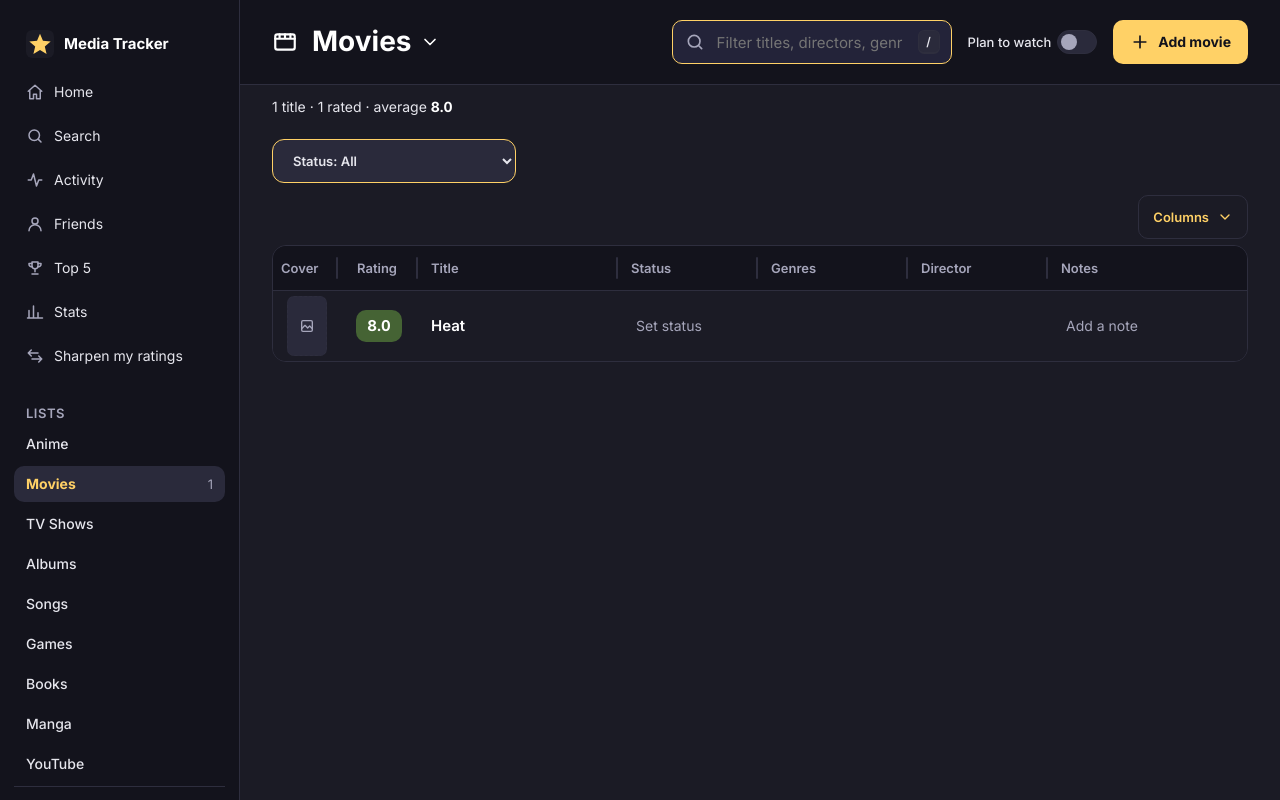
Test: Columns menu (PC table) › Escape closes the menu and returns focus to its button; Airing is only offered on anime and TV
The image size is (1280, 800).
Expected: the table is shown, [273,246,1248,361]
Click the button "Columns" at (1193,217), box [1138,195,1248,239]
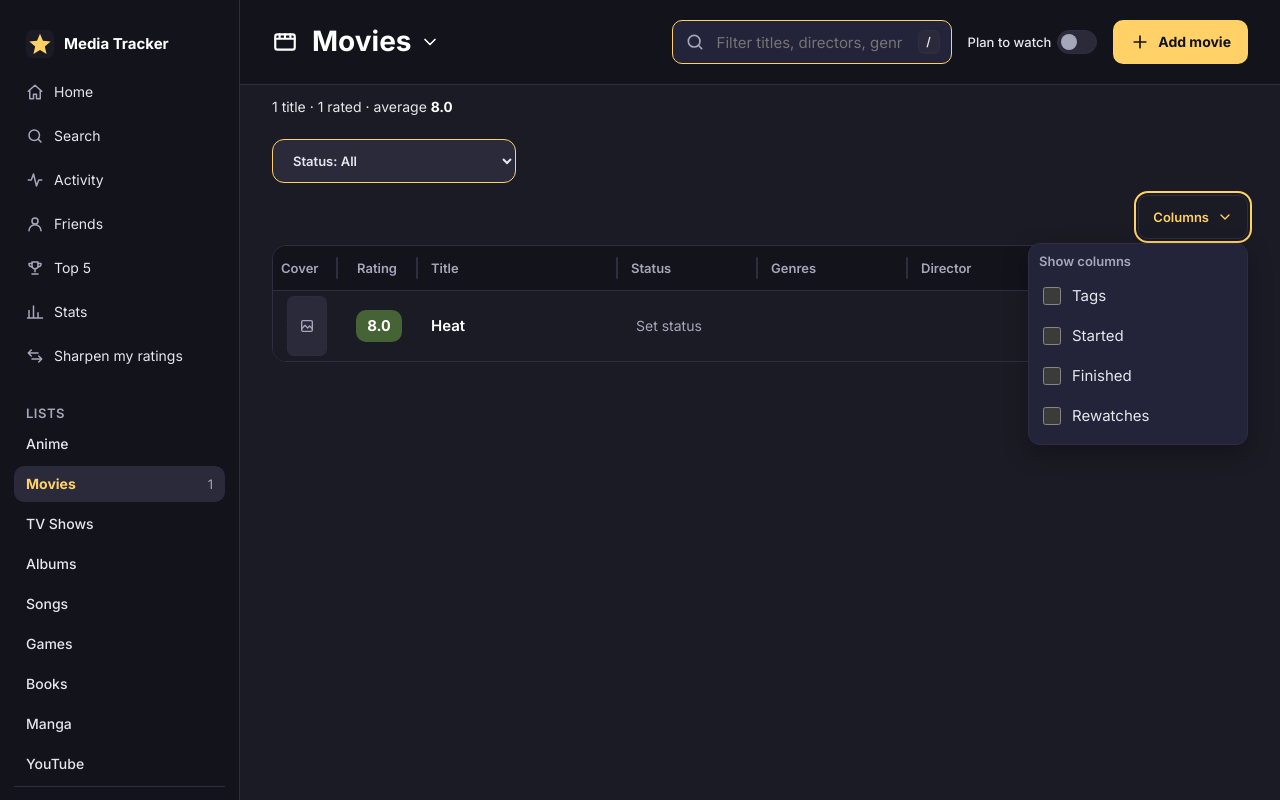
Press Escape
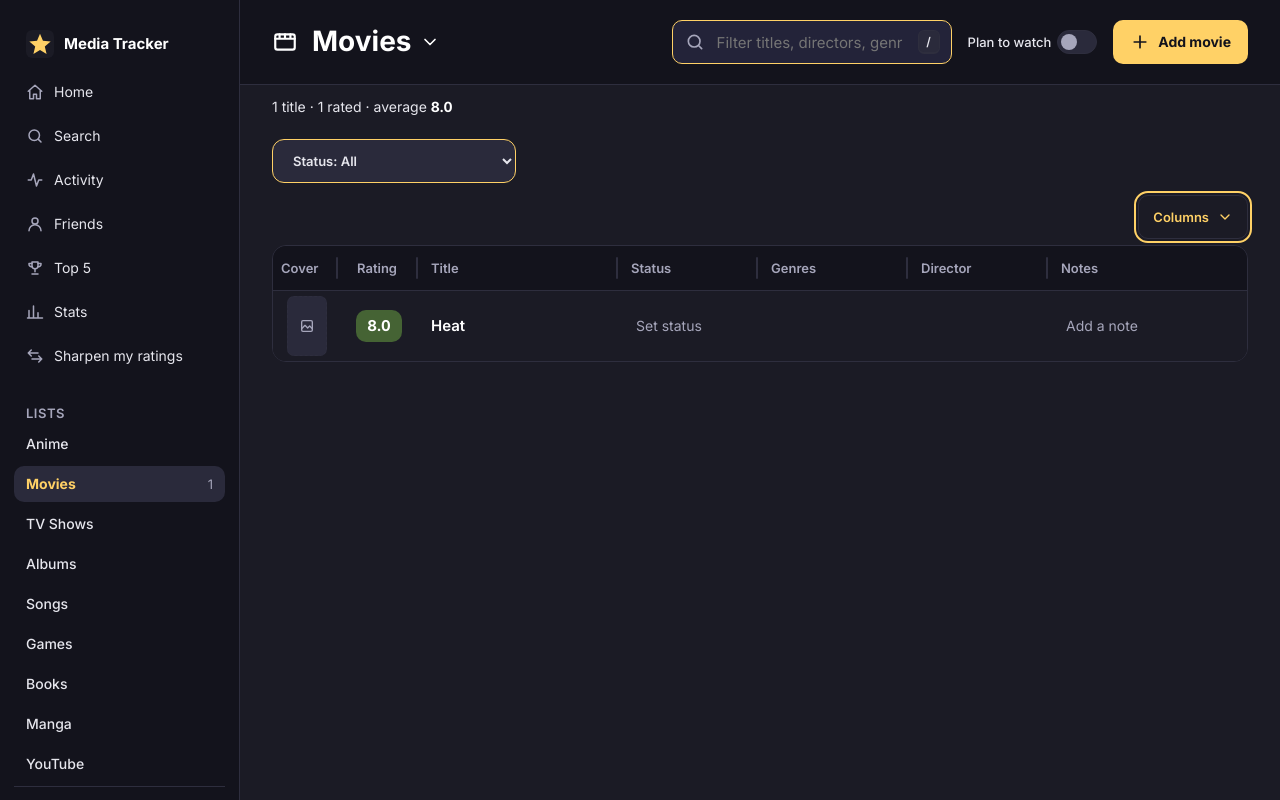
Result: the heading "Show columns" is gone
